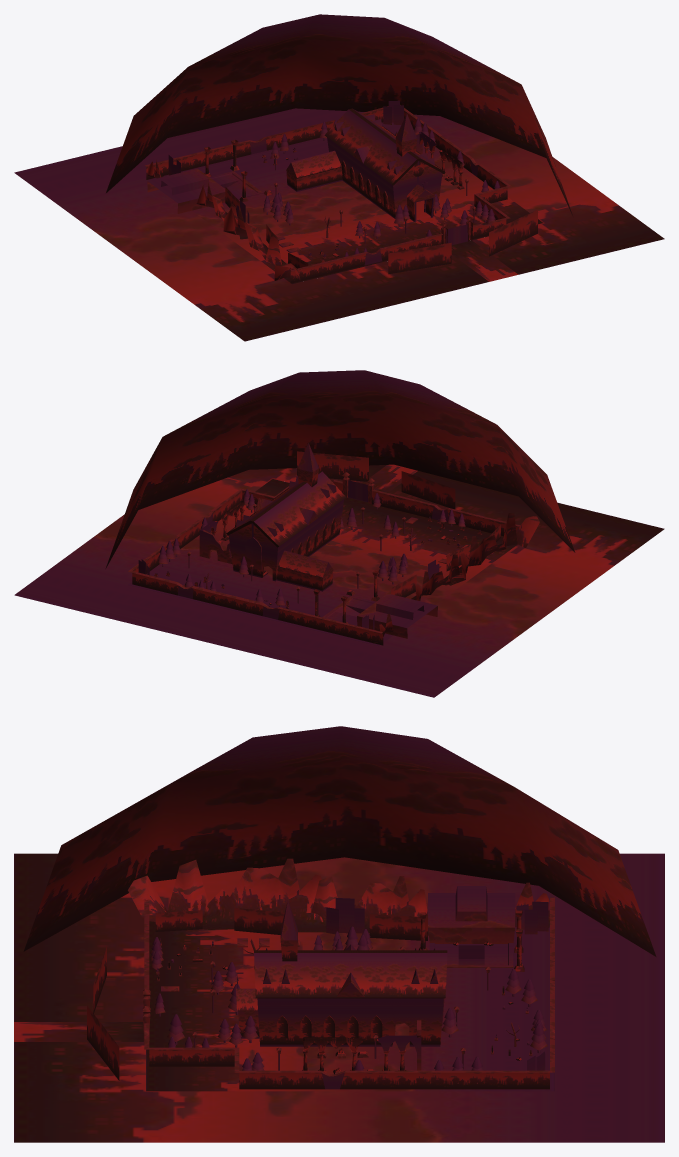
The model's file is Combined_Mesh_root_scene__18_bcf75302__churchyard_diffuse_09_c69a5621_c1f257.obj.
3 renders of one model, top to bottom at view 1: azimuth 30°, elevation 25°; view 2: azimuth 150°, elevation 25°; view 3: azimuth 270°, elevation 25°, orthographic. The views are drawn at different scales.
Size of the model in its own units: 139 by 56.25 by 132.
Materials: 190 (190 with a texture image).
